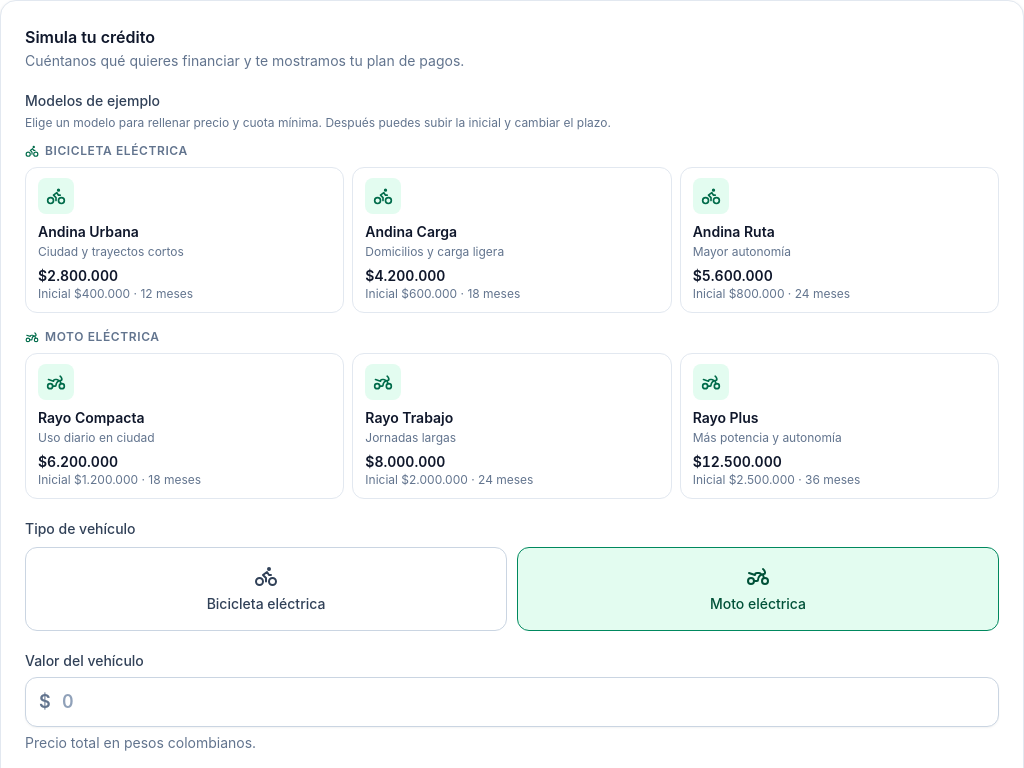
Test: SimulationForm › agrupa los miles mientras se escribe el importe
This screenshot has width=1024, height=768.
Type "8000000" into the field labelled "Valor del vehículo" at (512, 702), box x1=25 y1=677 x2=999 y2=727
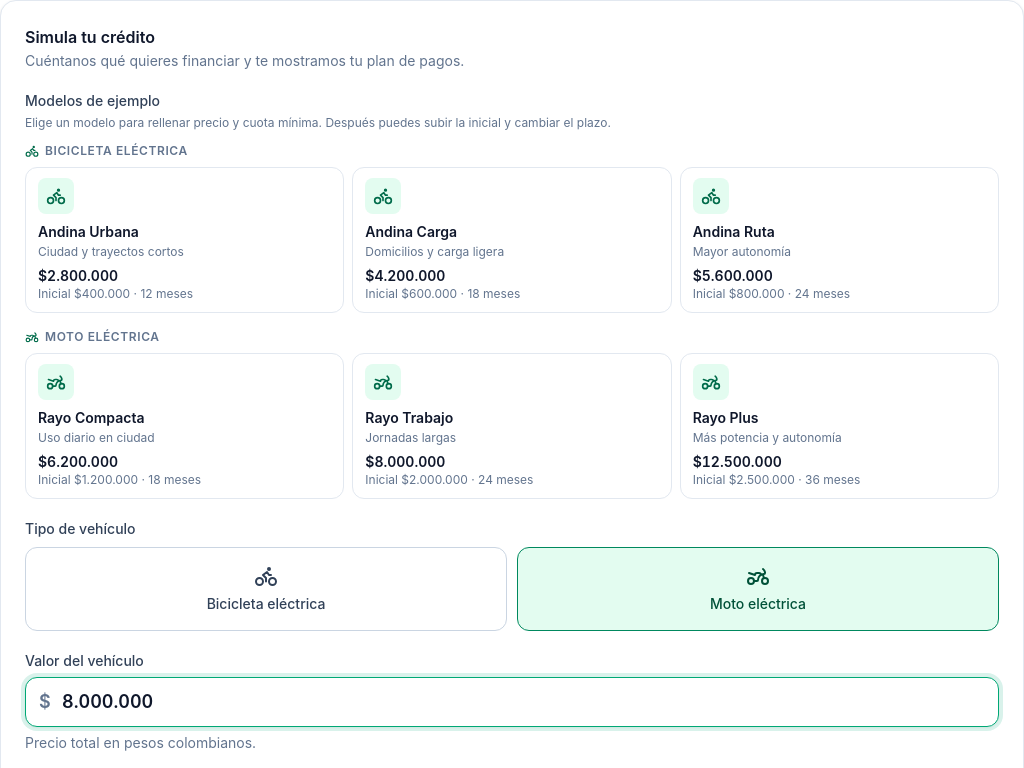
Now the field labelled "Valor del vehículo" holds "8.000.000", box x1=25 y1=677 x2=999 y2=727
